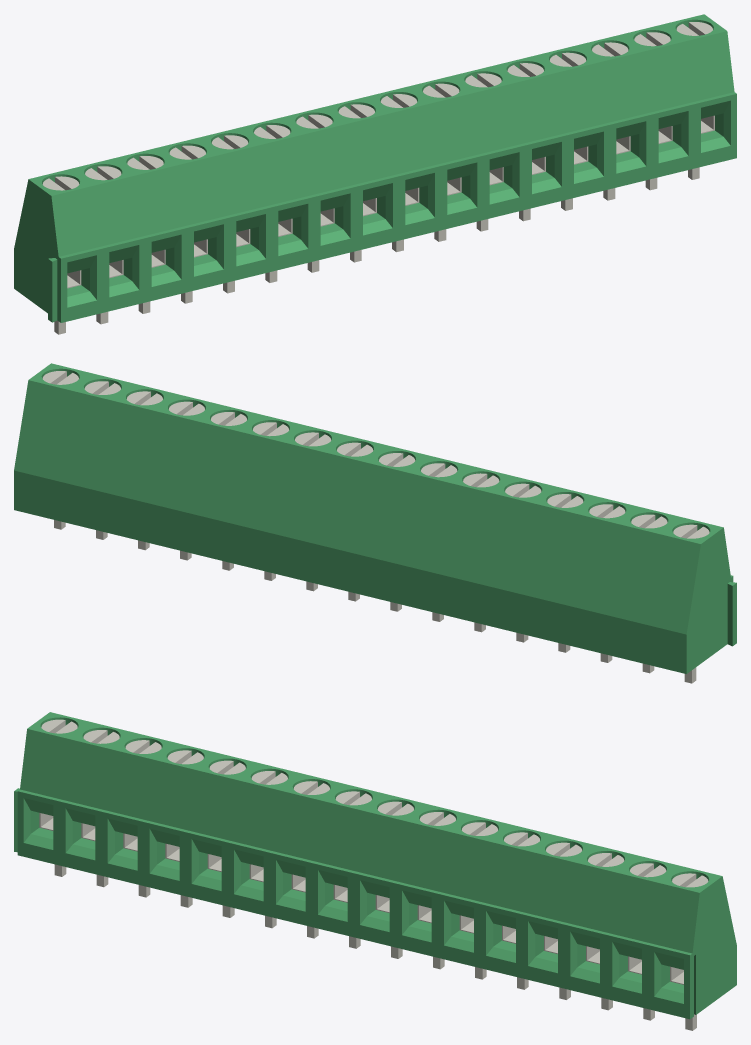
File: kc-terminalblock_phoenix_mkds-1_5-16-5.08_1x16_p5.08mm_horizontal.glb
The picture shows the model from 3 angles, top to bottom: view 1: azimuth 30°, elevation 25°; view 2: azimuth 150°, elevation 25°; view 3: azimuth 330°, elevation 25°; orthographic projection.
Parts seen in each view (by area): view 1: 0.08333333333333333_0.4166666666666667_0.16666666666666666_0, 0.6666666666666666_0.6666666666666666_0.5833333333333334_0.8; view 2: 0.08333333333333333_0.4166666666666667_0.16666666666666666_0, 0.6666666666666666_0.6666666666666666_0.5833333333333334_0.8; view 3: 0.08333333333333333_0.4166666666666667_0.16666666666666666_0, 0.6666666666666666_0.6666666666666666_0.5833333333333334_0.8.
Part boxes in pixels (x1,y1,x2,y2): 0.08333333333333333_0.4166666666666667_0.16666666666666666_0: (14, 14, 736, 322); 0.6666666666666666_0.6666666666666666_0.5833333333333334_0.8: (42, 22, 714, 334); 0.08333333333333333_0.4166666666666667_0.16666666666666666_0: (14, 363, 736, 673); 0.6666666666666666_0.6666666666666666_0.5833333333333334_0.8: (42, 371, 709, 683); 0.08333333333333333_0.4166666666666667_0.16666666666666666_0: (14, 712, 736, 1019); 0.6666666666666666_0.6666666666666666_0.5833333333333334_0.8: (39, 719, 708, 1030).
Bounding box in the file's own units: 8.2 × 1.73 × 0.9802.
